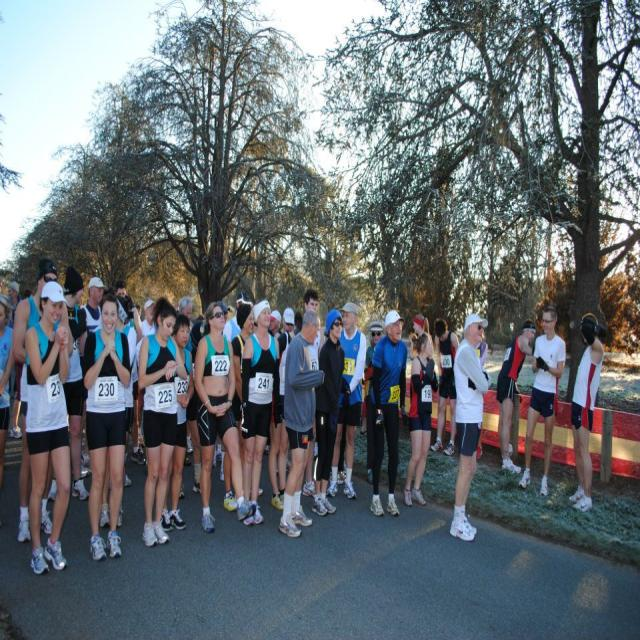body: (12, 254, 74, 545), (195, 298, 258, 534), (23, 279, 72, 576), (80, 289, 132, 563), (136, 294, 188, 550), (278, 308, 327, 538), (89, 293, 133, 532), (46, 264, 90, 502), (447, 311, 491, 544), (240, 296, 282, 526), (518, 300, 566, 498), (369, 308, 409, 518), (328, 298, 367, 501), (566, 312, 604, 514), (311, 306, 346, 516), (401, 330, 441, 507), (223, 302, 256, 514), (496, 316, 539, 477), (112, 292, 144, 488), (170, 312, 194, 534), (458, 319, 490, 464), (429, 317, 462, 457), (363, 320, 386, 486), (189, 314, 206, 498), (0, 292, 14, 494), (303, 287, 326, 372), (213, 437, 238, 513), (80, 275, 107, 336), (408, 312, 434, 362), (219, 290, 246, 336), (131, 395, 147, 468), (273, 306, 296, 342), (274, 306, 296, 340), (140, 296, 159, 334), (337, 434, 347, 484), (268, 308, 283, 340), (6, 280, 21, 312), (178, 290, 195, 316), (114, 278, 129, 300), (23, 286, 35, 300), (179, 481, 185, 498), (256, 484, 264, 496)
